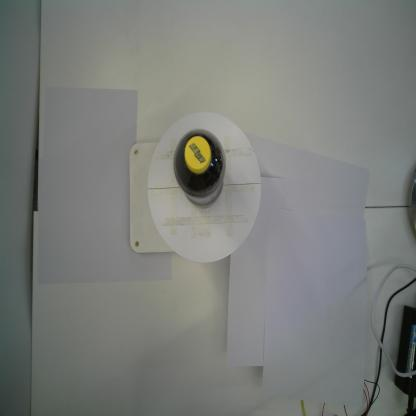Drink: (172, 127, 228, 211)
